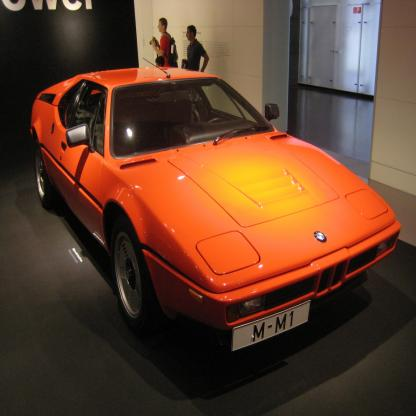Car: (30, 58, 403, 353)
